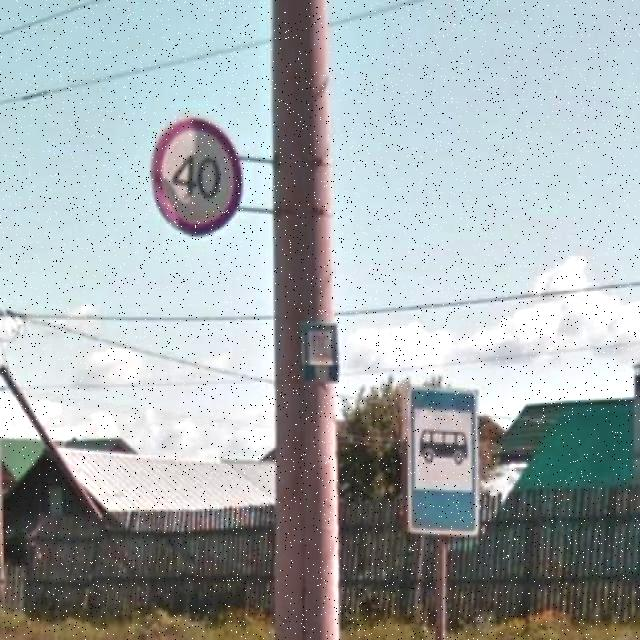Ograniczenie predkosci do 40: (150, 114, 244, 238)
